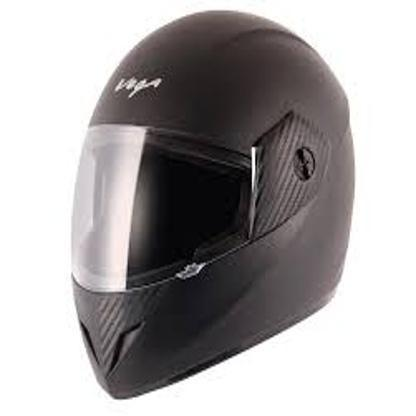not trash: (72, 8, 355, 400)
